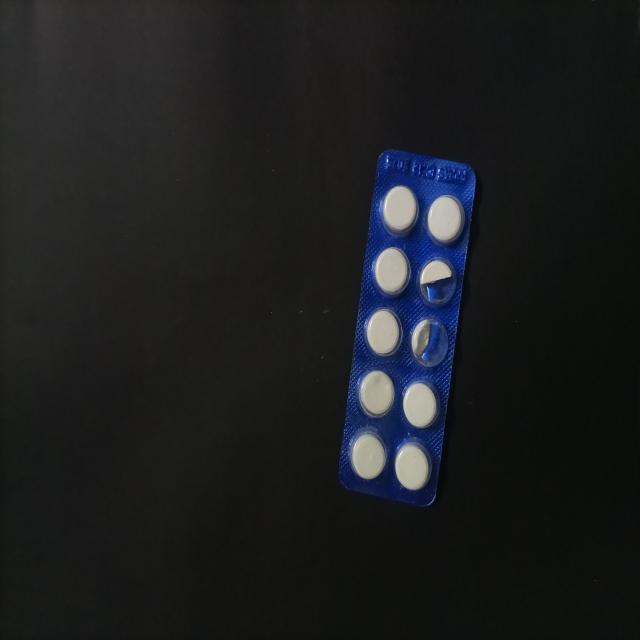defect: (408, 314, 452, 373), (416, 255, 459, 310)
